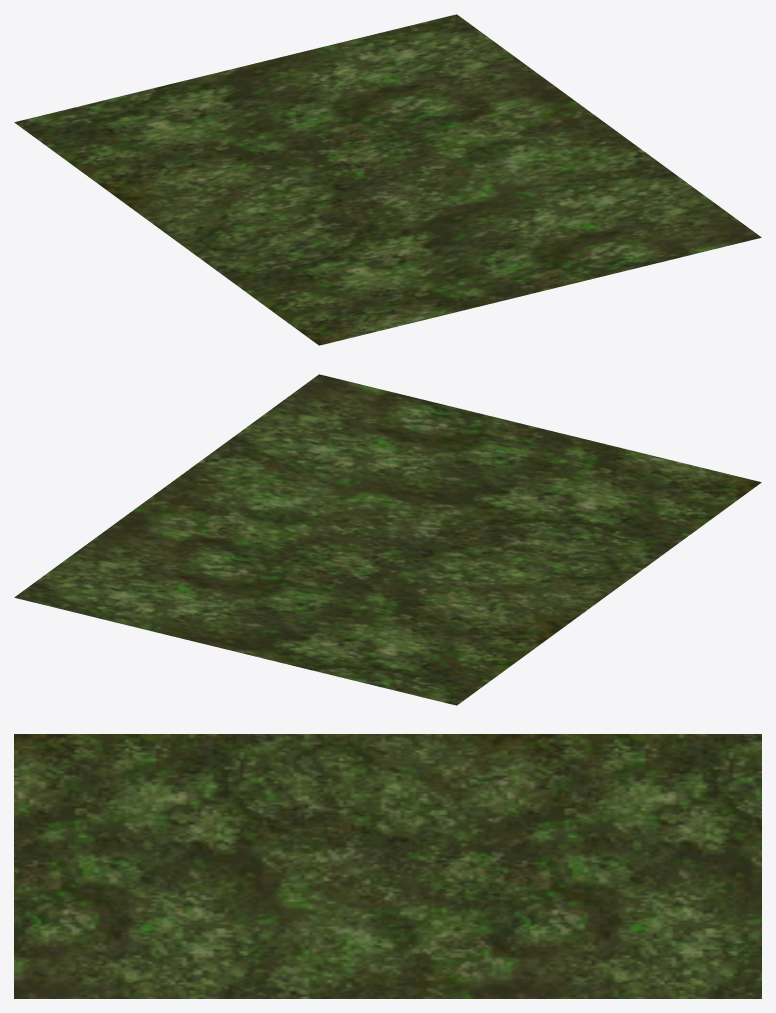
Rendered from OVERHILL_A_01_LINE189.fbx.
The picture shows the model from 3 angles, top to bottom: view 1: azimuth 30°, elevation 25°; view 2: azimuth 150°, elevation 25°; view 3: azimuth 270°, elevation 25°; orthographic projection. The views are drawn at different scales.
Parts seen in each view (by area): view 1: OVERHILL_A_01_LINE189; view 2: OVERHILL_A_01_LINE189; view 3: OVERHILL_A_01_LINE189.
Boxes of the visible parts, x1,y1,x2,y2 form: OVERHILL_A_01_LINE189: [14, 14, 761, 345]; OVERHILL_A_01_LINE189: [14, 374, 761, 705]; OVERHILL_A_01_LINE189: [14, 734, 761, 998].
Bounding box in the file's own units: 42015 × 0.0293 × 50148.
1 material, 1 textured.
